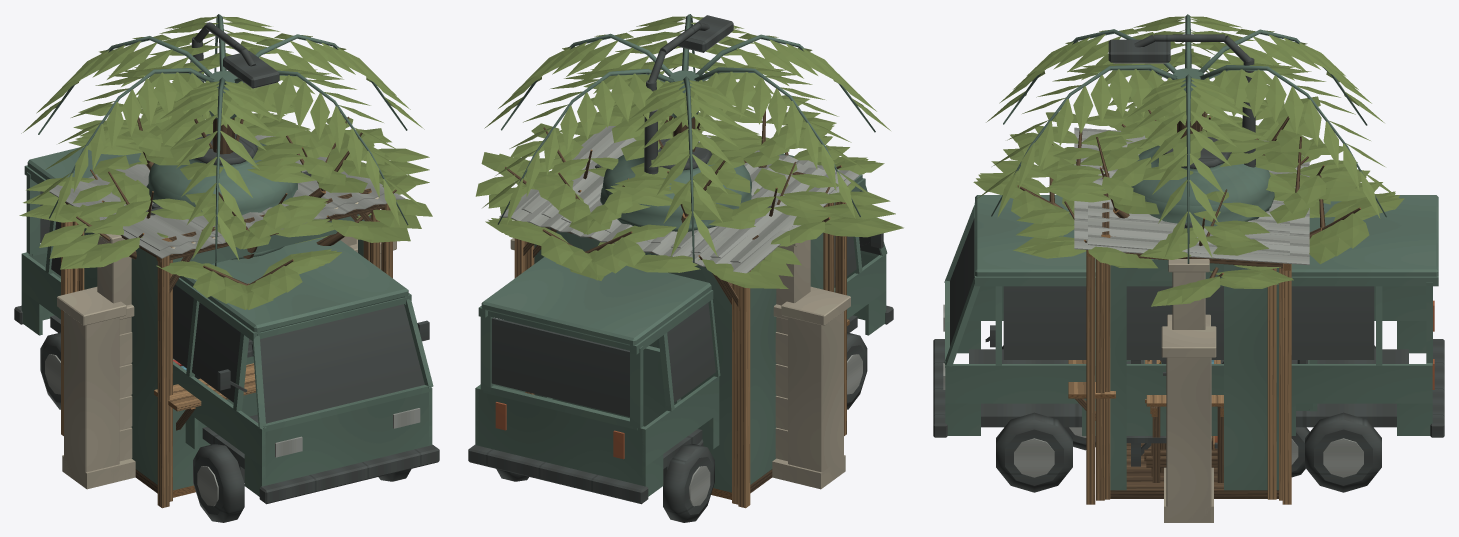
3 renders of one model, left to right at view 1: azimuth 30°, elevation 25°; view 2: azimuth 150°, elevation 25°; view 3: azimuth 270°, elevation 25°, orthographic.
Parts seen in each view (by area): view 1: minibus, palm, broadleaf-tree, acacia, kiosk, wall, canopy, water-tank, market-stall, gate, street-lamp; view 2: minibus, palm, broadleaf-tree, kiosk, acacia, wall, market-stall, canopy, water-tank, street-lamp, gate, three-wheeler; view 3: minibus, palm, kiosk, broadleaf-tree, acacia, market-stall, wall, water-tank, canopy, street-lamp, gate, three-wheeler.
Part boxes in pixels (x1,y1,x2,y2): minibus: (14,147,439,522); palm: (21,14,424,266); broadleaf-tree: (68,81,391,258); acacia: (19,108,432,309); kiosk: (49,135,405,501); wall: (57,239,396,489); canopy: (61,197,392,508); water-tank: (146,134,297,379); market-stall: (70,156,384,370); gate: (93,233,356,482); street-lamp: (190,22,279,115); minibus: (468,153,893,522); palm: (482,14,890,262); broadleaf-tree: (510,71,842,234); kiosk: (499,131,859,504); acacia: (475,109,903,288); wall: (510,238,850,489); market-stall: (521,126,846,290); canopy: (514,186,847,508); water-tank: (600,138,751,231); street-lamp: (644,15,733,174); gate: (772,240,810,482); three-wheeler: (558,335,703,445); minibus: (933,195,1444,492); palm: (976,14,1400,263); kiosk: (1068,127,1309,500); broadleaf-tree: (1010,85,1367,259); acacia: (973,107,1404,306); market-stall: (1088,128,1289,499); wall: (1161,314,1216,522); water-tank: (1131,137,1274,466); canopy: (1086,250,1291,504); street-lamp: (1108,34,1255,167); gate: (1168,259,1209,329); three-wheeler: (1064,360,1318,477).
Size of the model in its own units: 3.93 by 3.83 by 4.3.
1 material, 1 textured.
